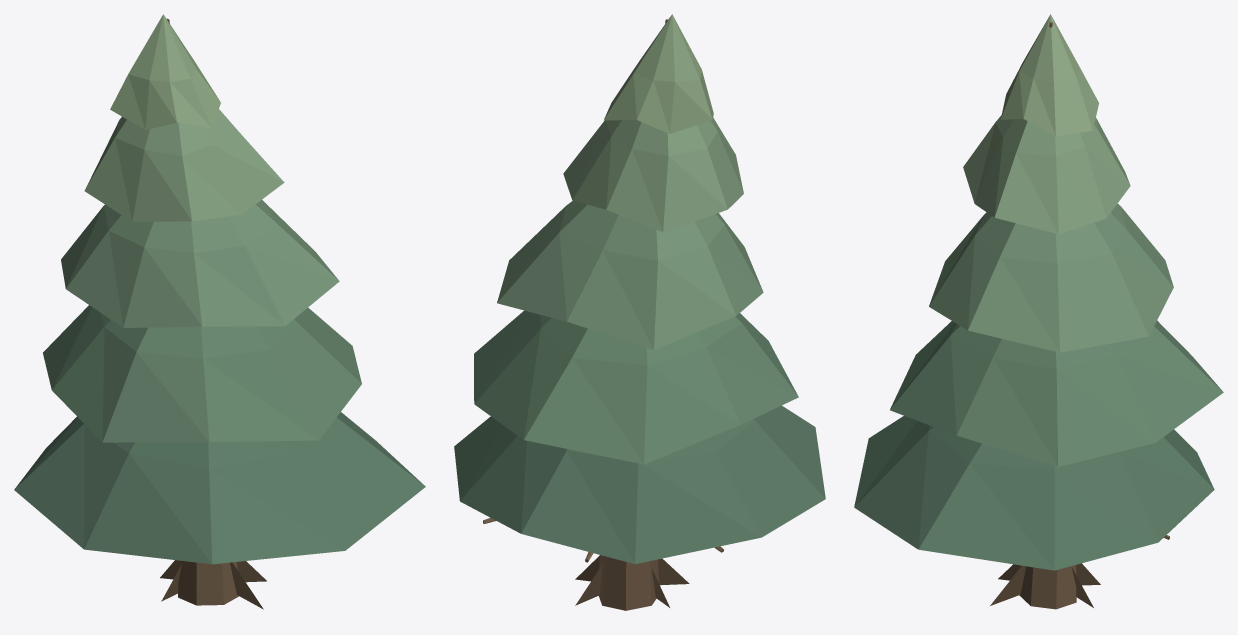
Rendered from pine_3.glb.
3 views of the same model, side by side, from view 1: azimuth 30°, elevation 25°; view 2: azimuth 150°, elevation 25°; view 3: azimuth 270°, elevation 25° (orthographic). The views are drawn at different scales.
Visible parts, largest first — view 1: foliage-0, foliage-1, foliage-2, surface; view 2: foliage-0, foliage-1, foliage-2, surface; view 3: foliage-0, foliage-1, foliage-2, surface.
Part boxes in pixels (x1,y1,x2,y2): foliage-0: (14, 109, 425, 564); foliage-1: (43, 14, 361, 442); foliage-2: (61, 200, 339, 327); surface: (160, 18, 266, 609); foliage-0: (454, 117, 825, 564); foliage-1: (474, 14, 798, 464); foliage-2: (497, 200, 763, 349); surface: (483, 19, 723, 610); foliage-0: (854, 115, 1214, 570); foliage-1: (890, 14, 1223, 466); foliage-2: (929, 203, 1173, 352); surface: (990, 22, 1169, 609).
Bounding box in the file's own units: 3.66 × 6.21 × 3.7.
